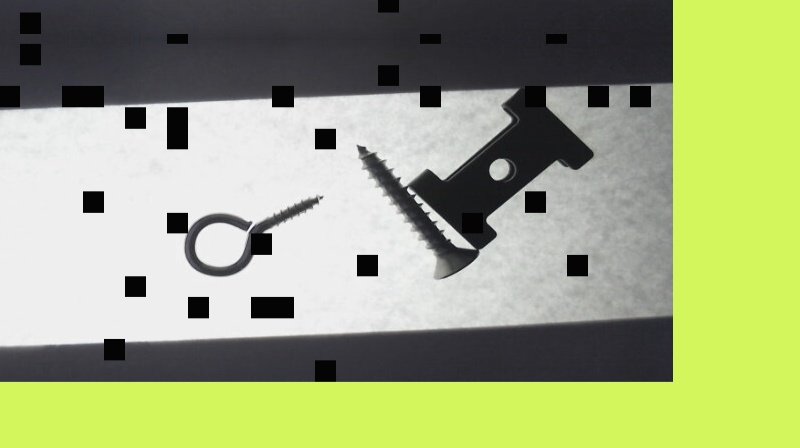O001: (182, 192, 324, 278)
O002: (404, 82, 593, 252)
S001: (354, 142, 482, 282)
